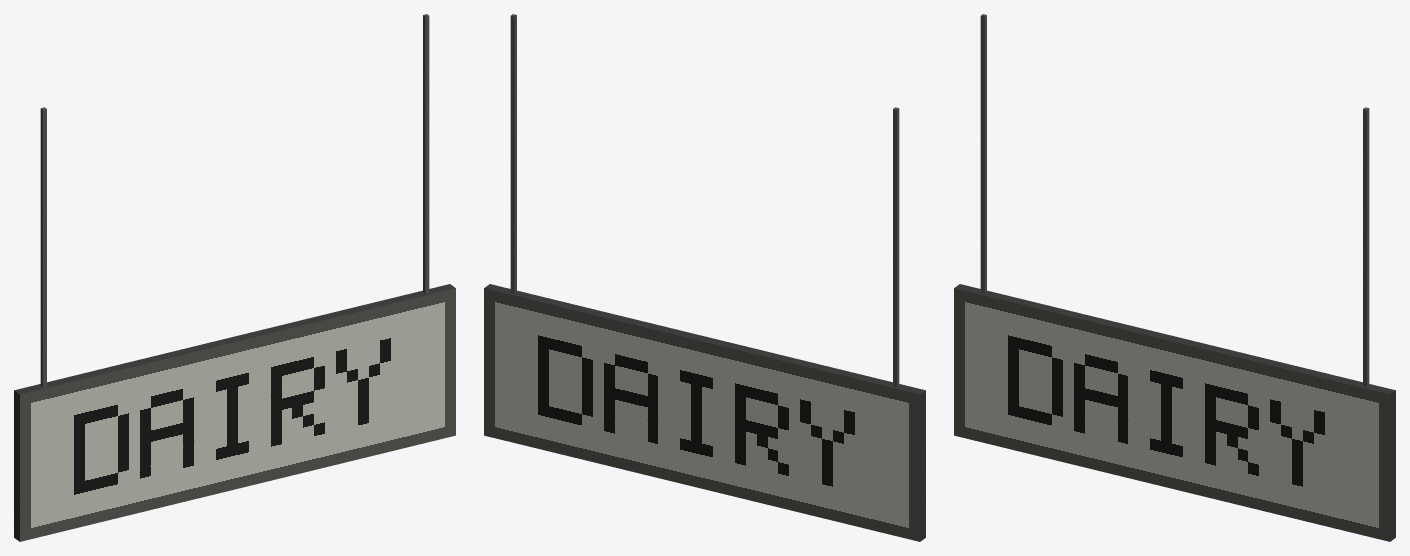
File: sign_dairy.glb
3 views of the same model, side by side, from view 1: azimuth 30°, elevation 25°; view 2: azimuth 150°, elevation 25°; view 3: azimuth 330°, elevation 25° (orthographic).
Parts seen in each view (by area): view 1: SignDairy; view 2: SignDairy; view 3: SignDairy.
Part boxes in pixels (x1=…): SignDairy: x1=14, y1=14, x2=455, y2=541; SignDairy: x1=484, y1=14, x2=925, y2=541; SignDairy: x1=954, y1=14, x2=1395, y2=541.
Bounding box in the file's own units: 1.3 × 1.21 × 0.03.
Materials: 1 (1 with a texture image).
